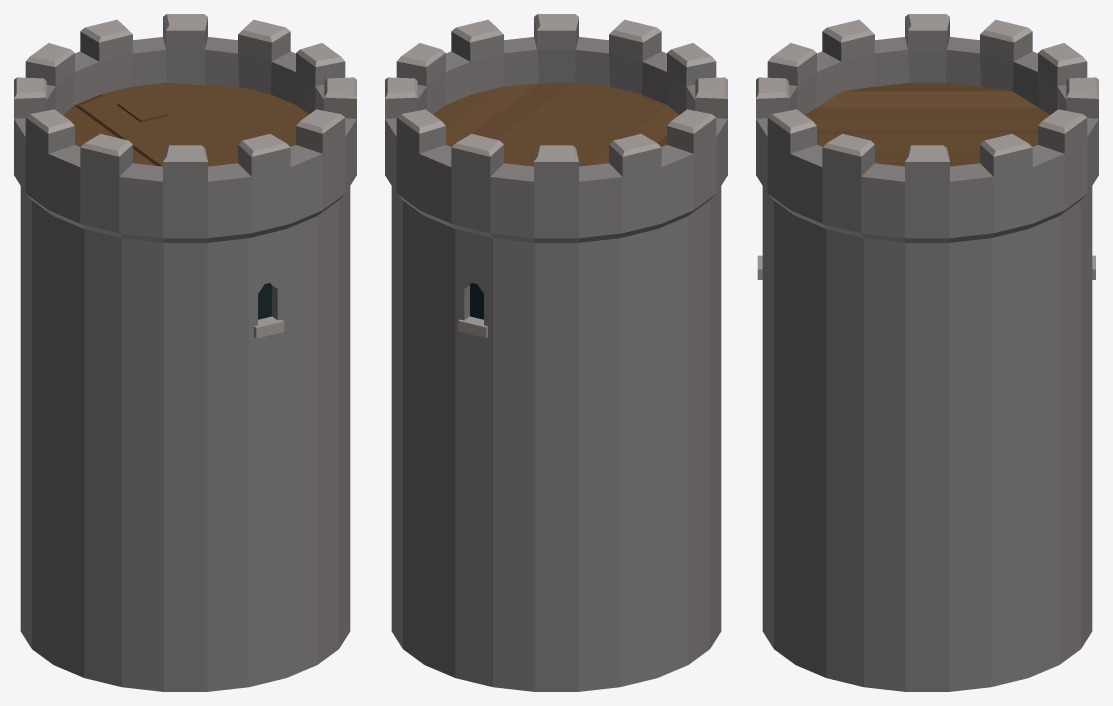
File: tower-castle_round.glb
The picture shows the model from 3 angles, left to right: view 1: azimuth 30°, elevation 25°; view 2: azimuth 150°, elevation 25°; view 3: azimuth 270°, elevation 25°; orthographic projection.
Parts seen in each view (by area): view 1: tower-castle_round; view 2: tower-castle_round; view 3: tower-castle_round.
Part boxes in pixels (x1,y1,x2,y2): tower-castle_round: (14,14,356,691); tower-castle_round: (385,14,727,691); tower-castle_round: (756,14,1098,691).
Bounding box in the file's own units: 8.18 × 14.14 × 8.18.
1 material, 1 textured.
